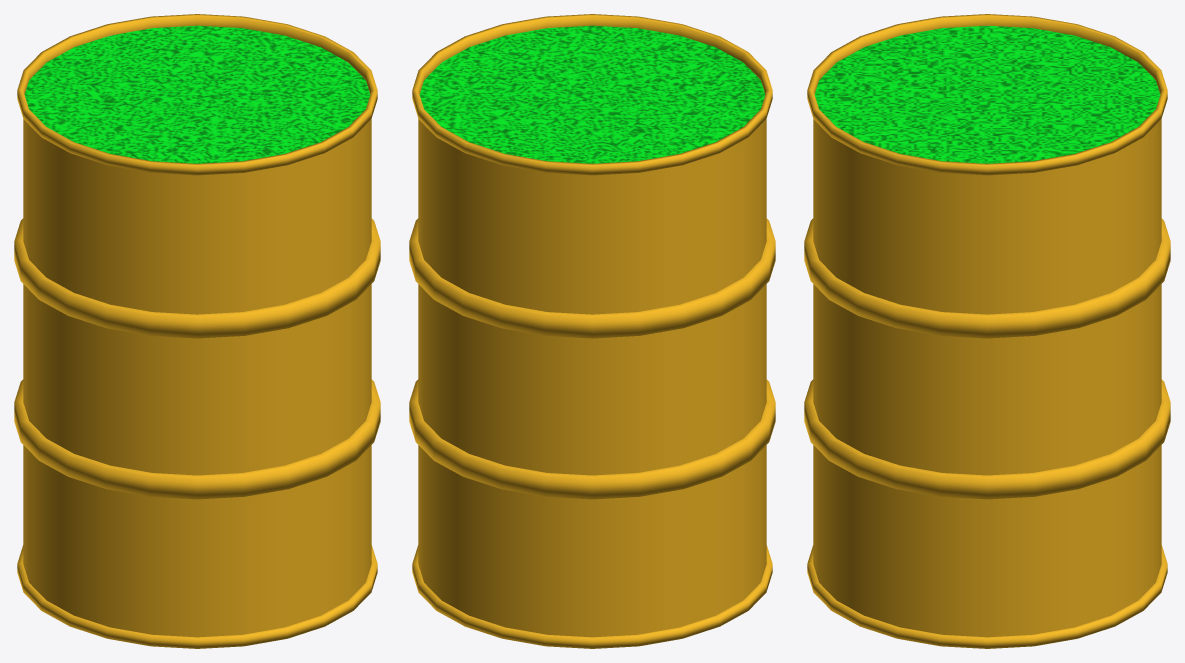
The picture shows the model from 3 angles, left to right: view 1: azimuth 30°, elevation 25°; view 2: azimuth 150°, elevation 25°; view 3: azimuth 270°, elevation 25°; orthographic projection.
Parts seen in each view (by area): view 1: VatOfAcid; view 2: VatOfAcid; view 3: VatOfAcid.
Boxes of the visible parts, x1,y1,x2,y2 form: VatOfAcid: [14, 14, 380, 648]; VatOfAcid: [409, 14, 775, 648]; VatOfAcid: [804, 14, 1170, 648].
Size of what is drawn, in the model's own units: 0.756 by 1.1 by 0.756.
Materials: 2 (2 with a texture image).
